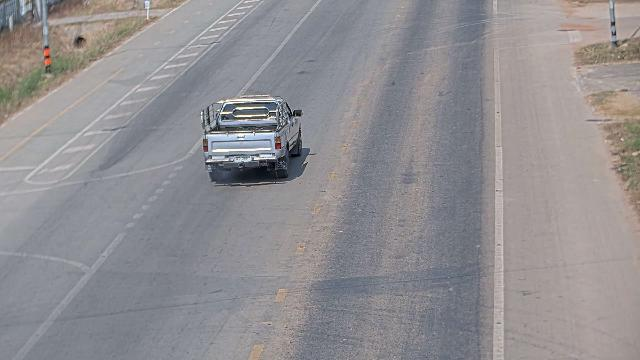pickup-truck: (199, 93, 303, 180)
